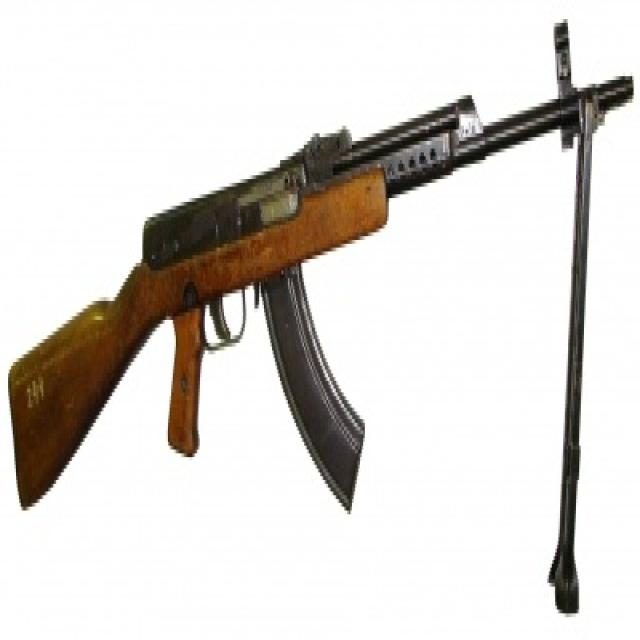rifle: (4, 9, 636, 630)
